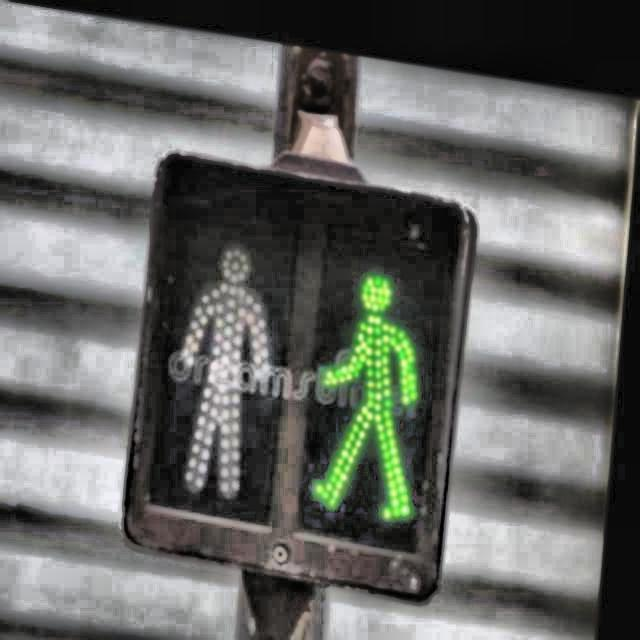semaforo pedestre: (76, 111, 547, 640)
